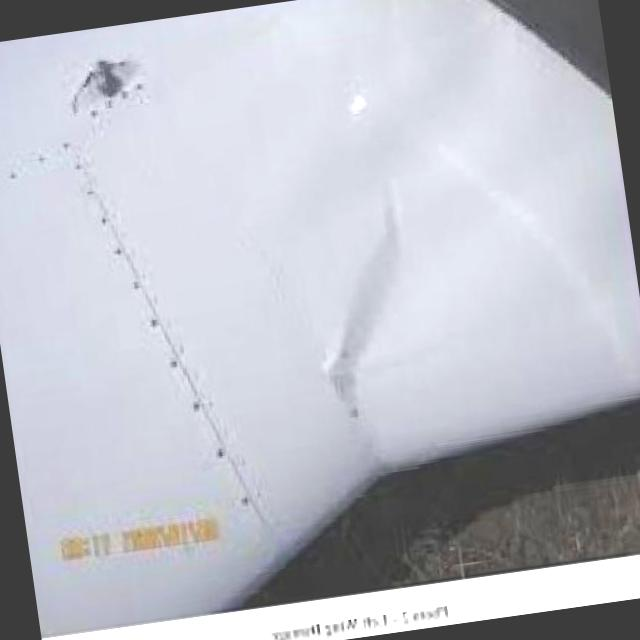dent: (323, 184, 404, 418)
